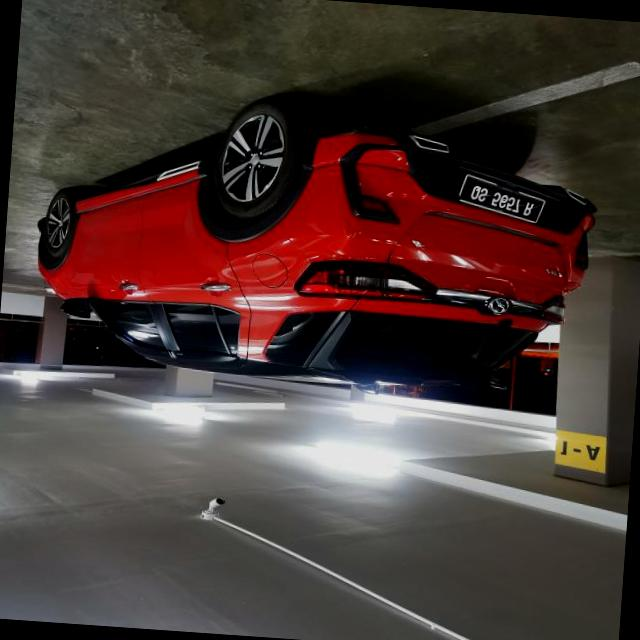PeroduaAtiva: (26, 81, 604, 404)
